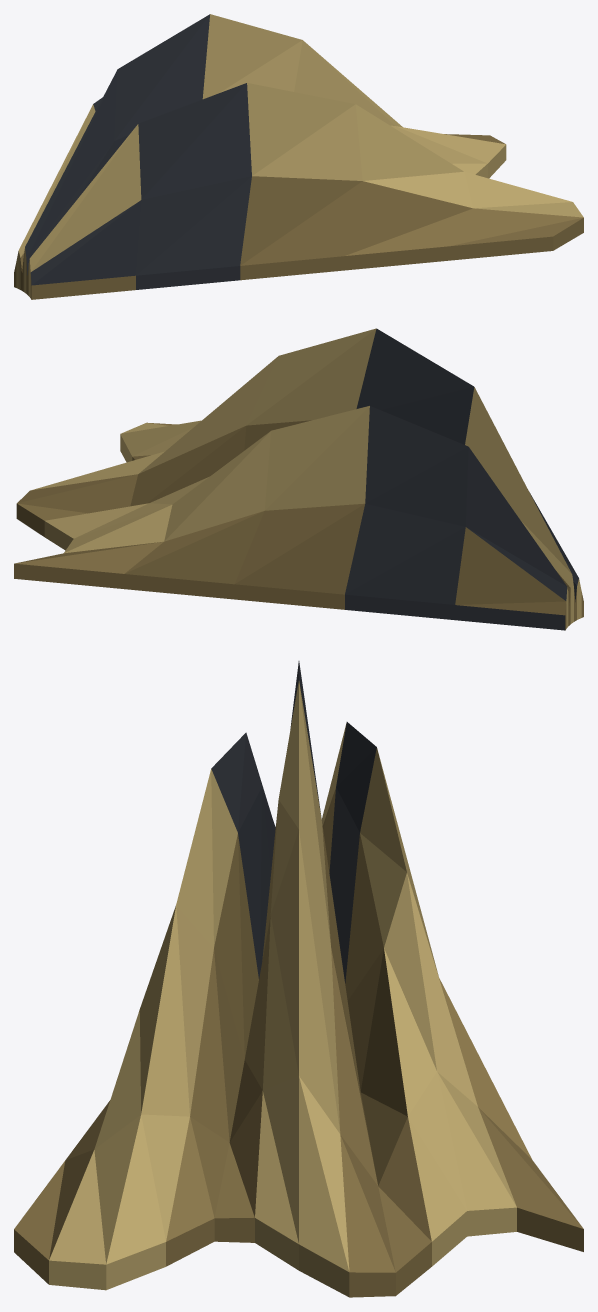
Rendered from straw_tuft.glb.
3 views of the same model, one above another, from view 1: azimuth 30°, elevation 25°; view 2: azimuth 150°, elevation 25°; view 3: azimuth 270°, elevation 25° (orthographic). The views are drawn at different scales.
Visible parts, largest first — view 1: straw_tuft; view 2: straw_tuft; view 3: straw_tuft.
Boxes of the visible parts, bbox=[...] form: straw_tuft: bbox=[14, 14, 583, 299]; straw_tuft: bbox=[14, 328, 583, 630]; straw_tuft: bbox=[14, 661, 583, 1297].
Size of the model in its own units: 0.13 by 0.0581 by 0.0802.
